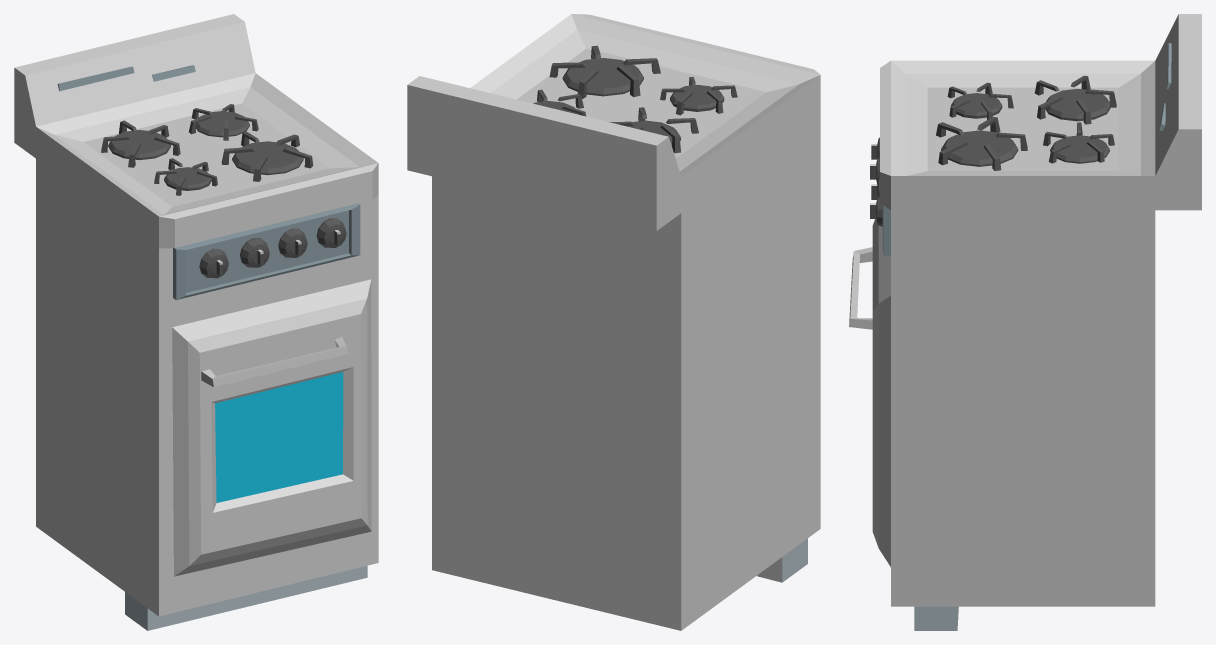
Rendered from stove.gltf.
3 renders of one model, left to right at view 1: azimuth 30°, elevation 25°; view 2: azimuth 150°, elevation 25°; view 3: azimuth 270°, elevation 25°, orthographic. The views are drawn at different scales.
Visible parts, largest first — view 1: mesh1390275597; view 2: mesh1390275597; view 3: mesh1390275597.
Boxes of the visible parts, left/top/right/bottom form: mesh1390275597: left=14, top=14, right=378, bottom=630; mesh1390275597: left=407, top=14, right=820, bottom=630; mesh1390275597: left=849, top=14, right=1201, bottom=630.
Bounding box in the file's own units: 0.4922 × 0.9977 × 0.6362.
